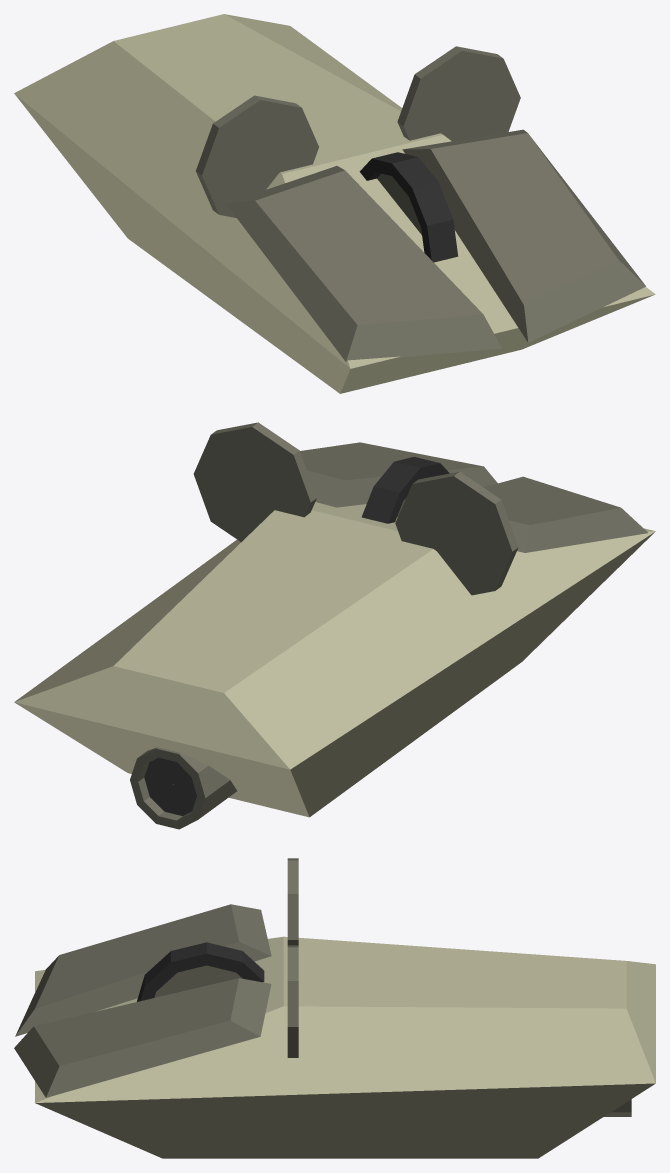
File: SM_Raton.fbx
The picture shows the model from 3 angles, top to bottom: view 1: azimuth 30°, elevation 25°; view 2: azimuth 150°, elevation 25°; view 3: azimuth 270°, elevation 25°; orthographic projection. The views are drawn at different scales.
Visible parts, largest first — view 1: pCube1, polySurface2, polySurface1, pasted__pCylinder3, pCylinder3, pCylinder1; view 2: pCube1, pCylinder3, pasted__pCylinder3, polySurface2, pCylinder2, polySurface1, pCylinder1; view 3: pCube1, polySurface1, polySurface2, pCylinder1, pCylinder3, pasted__pCylinder3.
Part boxes in pixels (x1,y1,x2,y2): pCube1: (14,14,655,393); polySurface2: (226,166,501,361); polySurface1: (402,129,645,342); pasted__pCylinder3: (196,95,318,217); pCylinder3: (397,46,520,141); pCylinder1: (359,152,458,262); pCube1: (14,502,655,817); pCylinder3: (193,422,316,542); pasted__pCylinder3: (395,471,518,595); polySurface2: (483,476,647,552); pCylinder2: (130,747,236,829); polySurface1: (300,442,497,507); pCylinder1: (362,457,449,523); pCube1: (35,936,655,1158); polySurface1: (14,978,271,1097); polySurface2: (15,904,271,1036); pCylinder1: (137,942,264,1001); pCylinder3: (287,945,298,1057); pasted__pCylinder3: (287,858,298,945).
Bounding box in the file's own units: 3.53 × 2.58 × 6.96.
